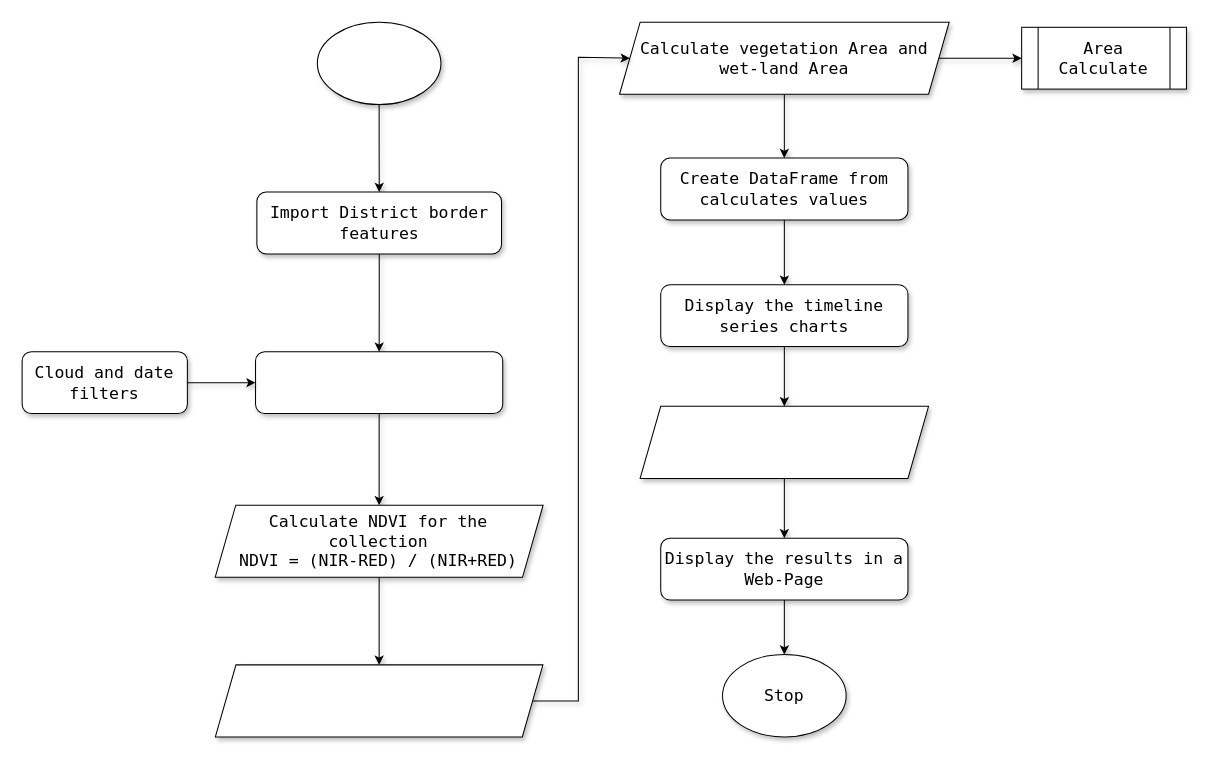
Image size: 1211x762. Some labels were removed from this diagram. The shapes that lost their labels are listed below. From the top down, each one's centre as x and y in pixels, then its label:
At pixel 379 64: "Start".
At pixel 379 384: "Import Sentinel-2 image collection".
At pixel 785 443: "Forecast for next 4 months".
At pixel 379 702: "Calculate NDWI for the collection NDWI = (NIR-SWIR) / (NIR+SWIR)".
